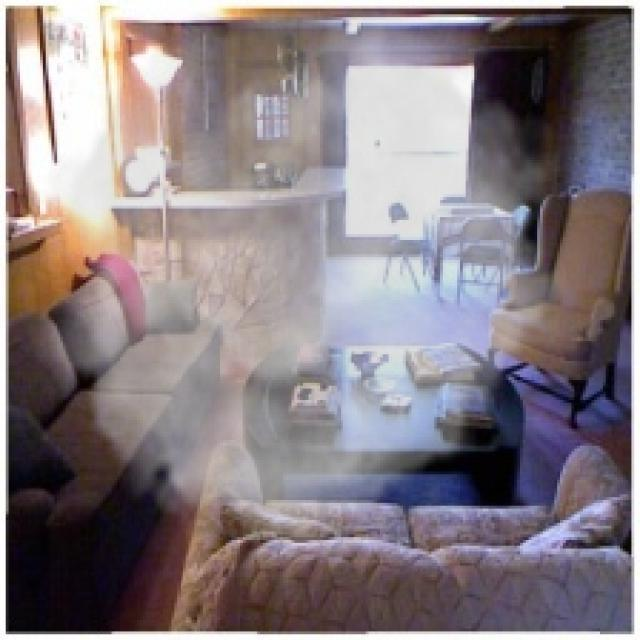Smoke: (28, 11, 580, 540)
